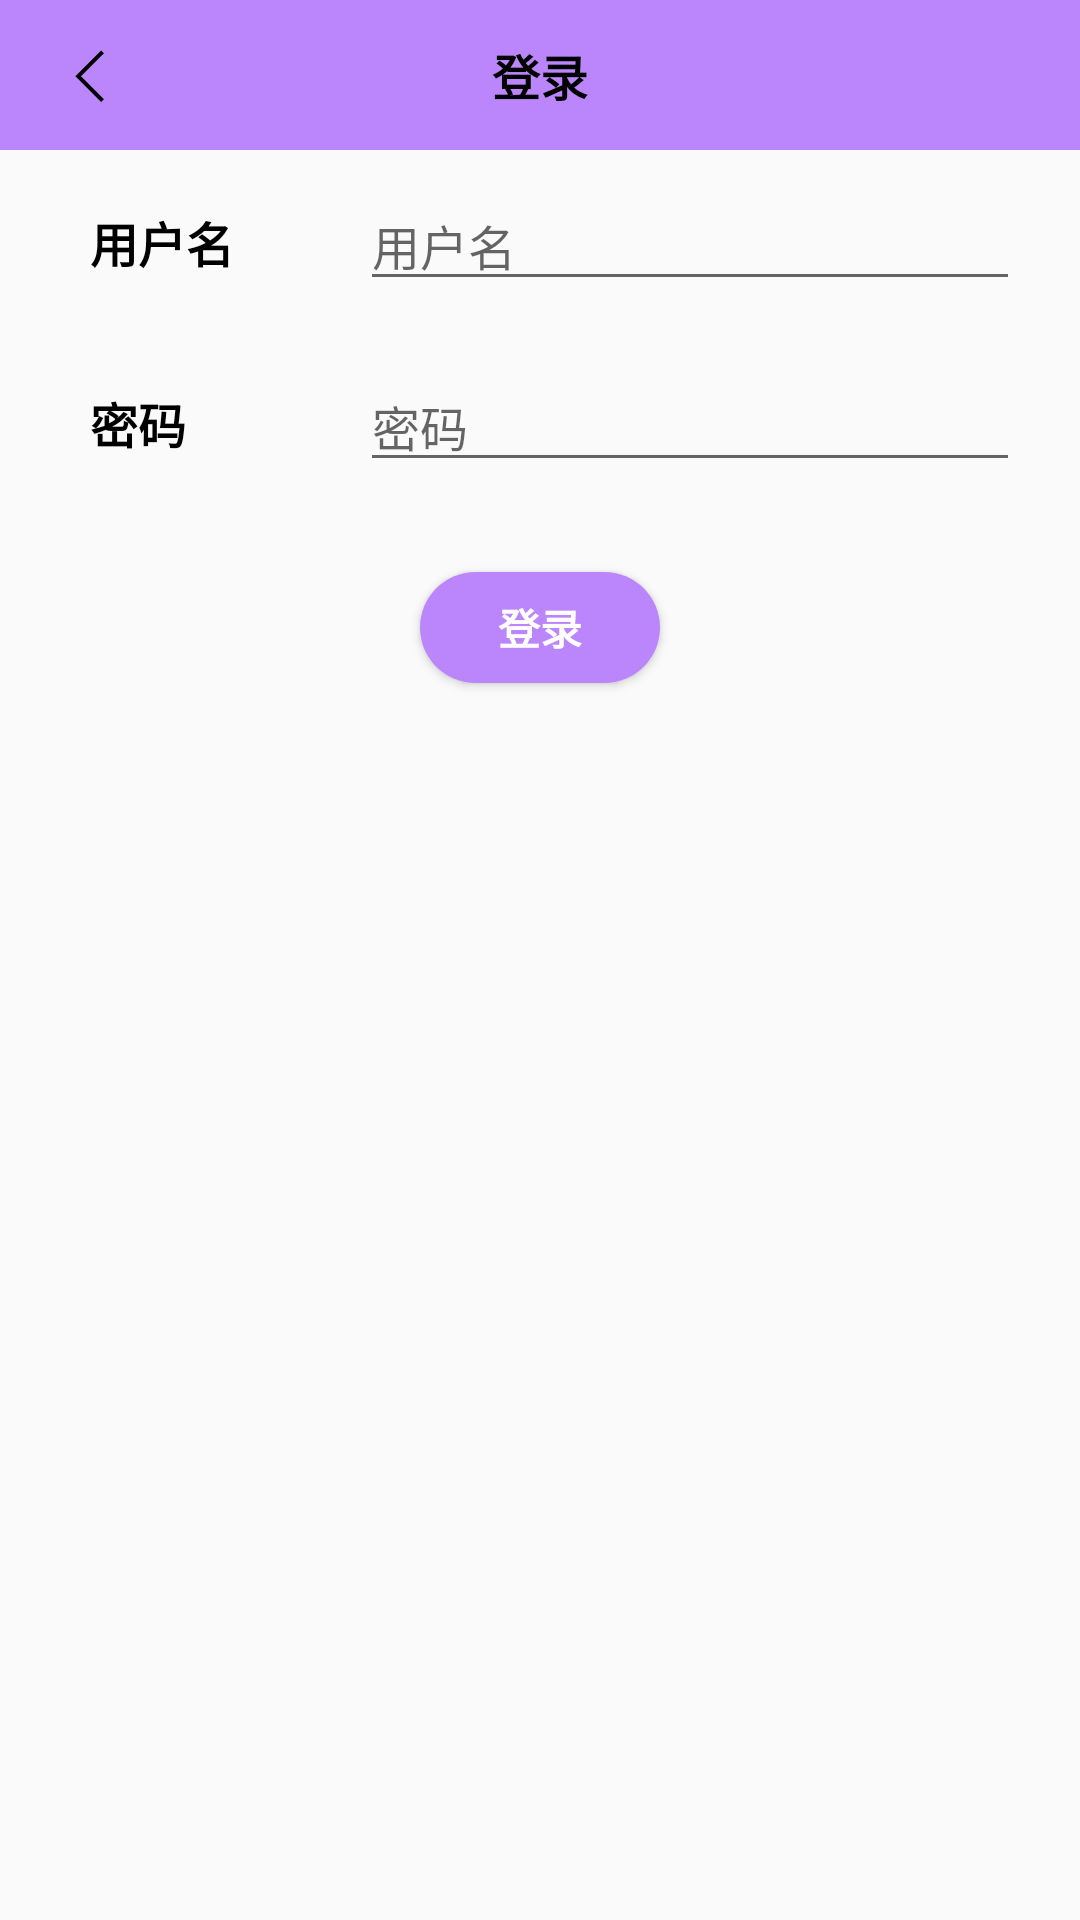

Screen size 1080x1920. Icon name, then its center in pixels as (x,y):
return: (89,76)
